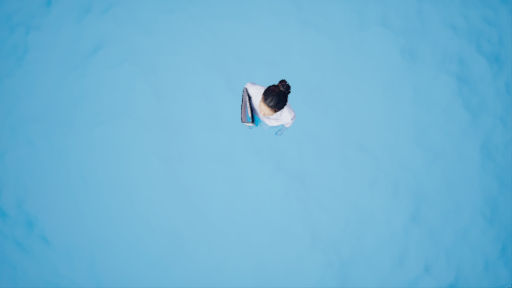person: (231, 81, 305, 138)
